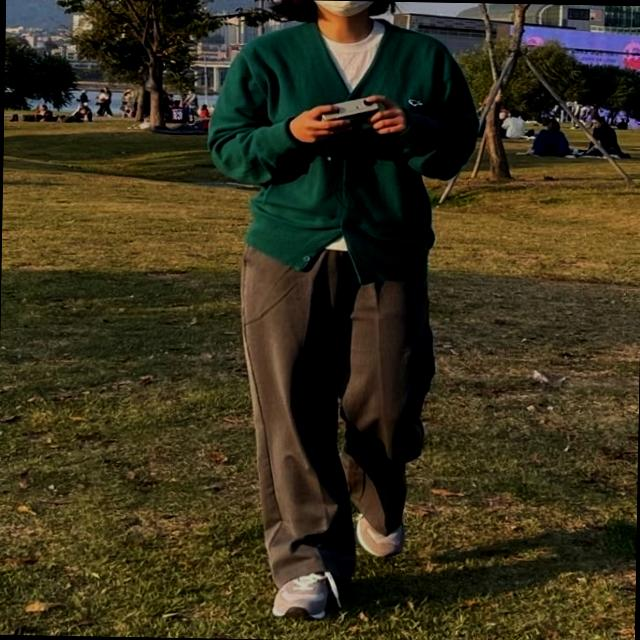cardigan: (210, 13, 488, 282)
slacks: (235, 241, 435, 596)
